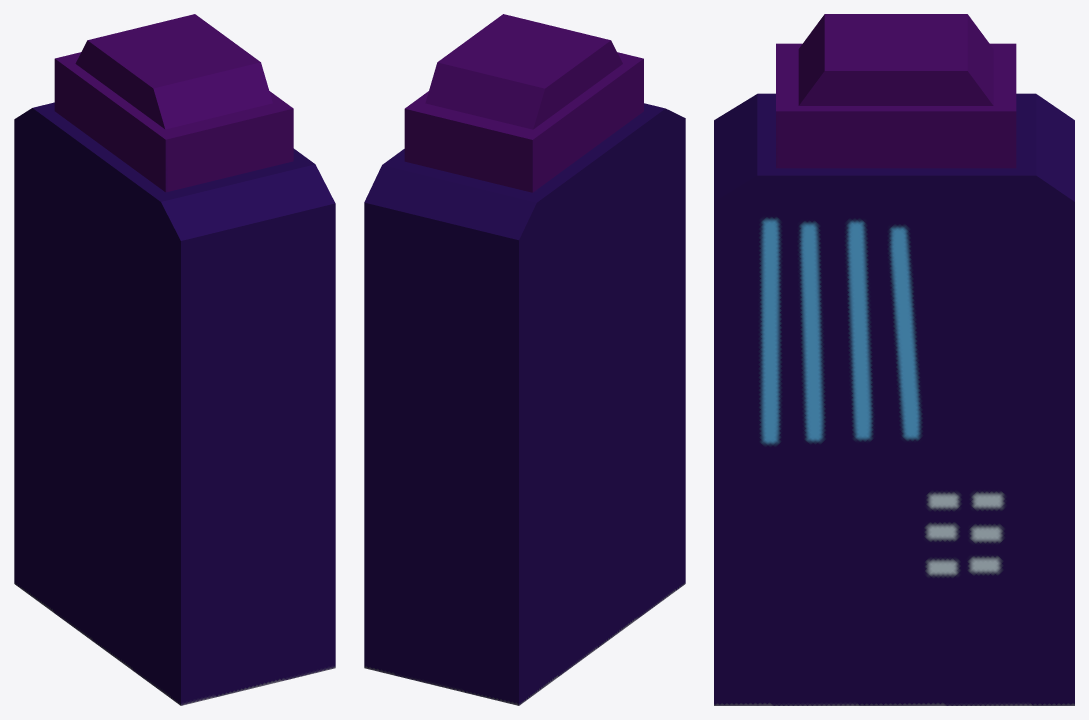
The model's file is Building3.fbx.
3 renders of one model, left to right at view 1: azimuth 30°, elevation 25°; view 2: azimuth 150°, elevation 25°; view 3: azimuth 270°, elevation 25°, orthographic. The views are drawn at different scales.
Parts seen in each view (by area): view 1: pCube3; view 2: pCube3; view 3: pCube3.
Part boxes in pixels (box(x1,y1,x2,y2)): pCube3: box(14, 14, 335, 705); pCube3: box(364, 14, 685, 705); pCube3: box(714, 14, 1074, 705).
Size of the model in its own units: 1 by 3.55 by 1.87.
